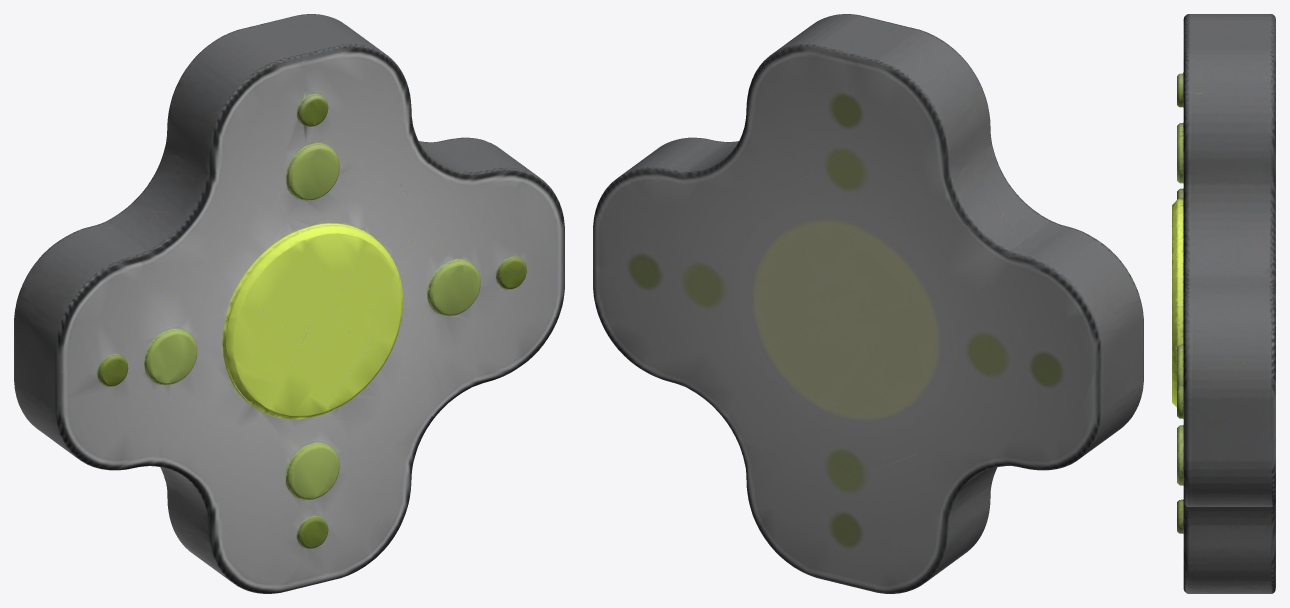
Rendered from eo-005-optic-mimic.glb.
3 renders of one model, left to right at view 1: azimuth 30°, elevation 25°; view 2: azimuth 150°, elevation 25°; view 3: azimuth 270°, elevation 25°, orthographic.
Parts seen in each view (by area): view 1: mesh_node; view 2: mesh_node; view 3: mesh_node.
Part boxes in pixels (x1=…): mesh_node: x1=14, y1=14, x2=564, y2=593; mesh_node: x1=593, y1=14, x2=1143, y2=593; mesh_node: x1=1172, y1=14, x2=1275, y2=593.
Size of the model in its own units: 1.9 by 1.9 by 0.3328.
1 material, 1 textured.
